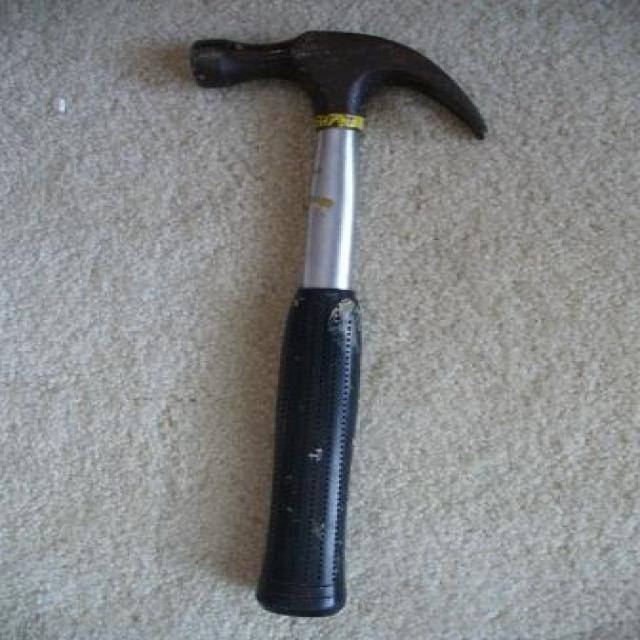hammer: (178, 22, 503, 628)
